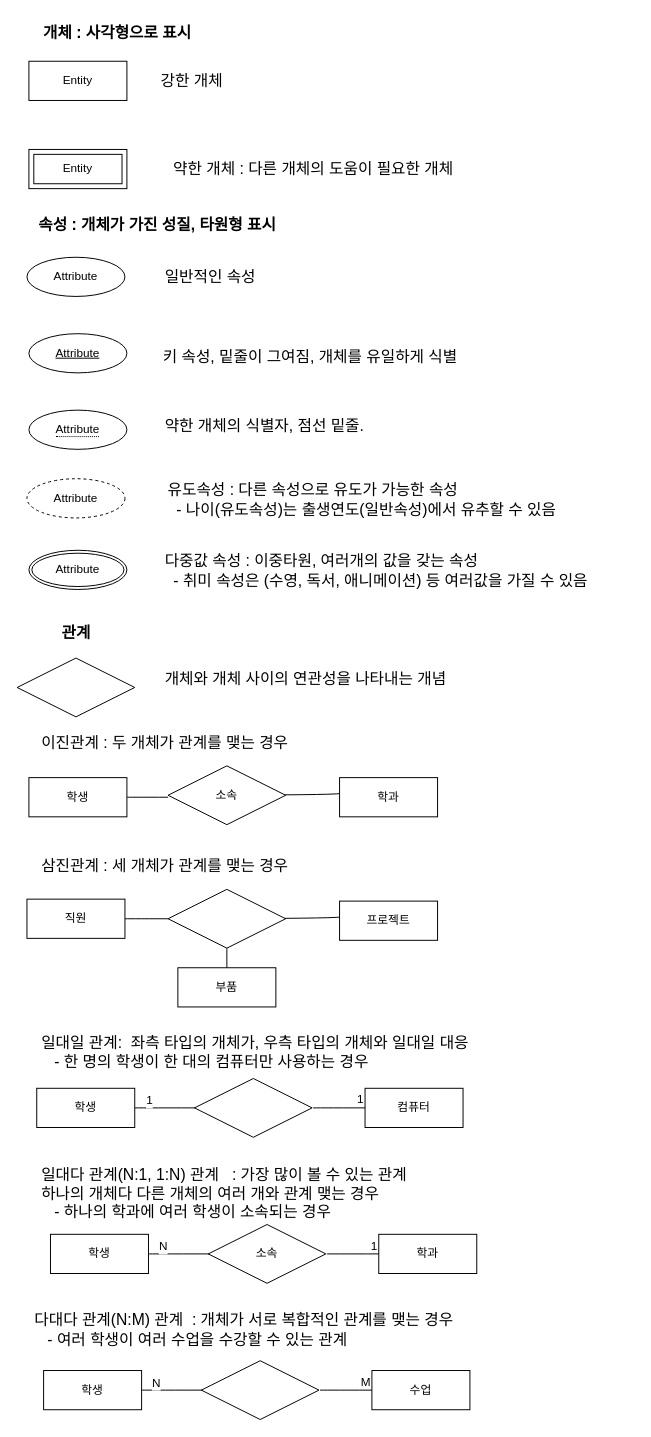
Image size: 651x1437. Some labels were removed from this diagram. The shapes that lost their labels are listed below. From the top down, each one's box as (x1, y1, x2, y2) in pixels, then its label:
(16, 657, 135, 717): Relationship
(167, 888, 286, 948): 수행
(194, 1078, 312, 1137): 사용
(200, 1360, 319, 1420): 수강
